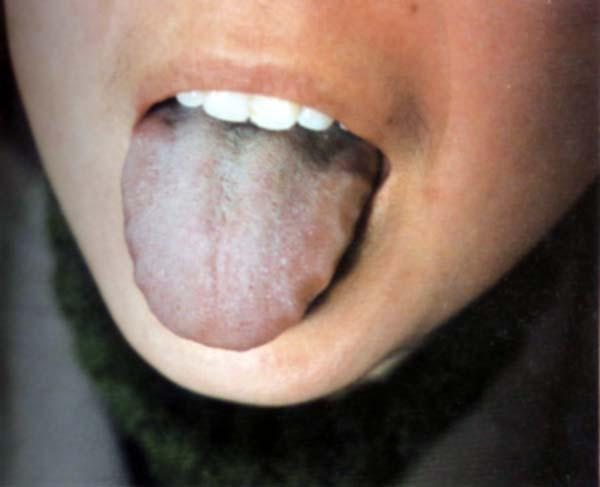baitaishe: (121, 103, 376, 353)
chihenshe: (295, 181, 370, 319)
